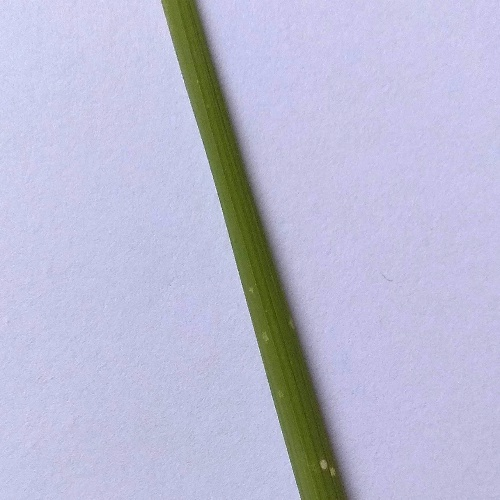Busuk Leher: (311, 455, 345, 483), (261, 326, 275, 351)
